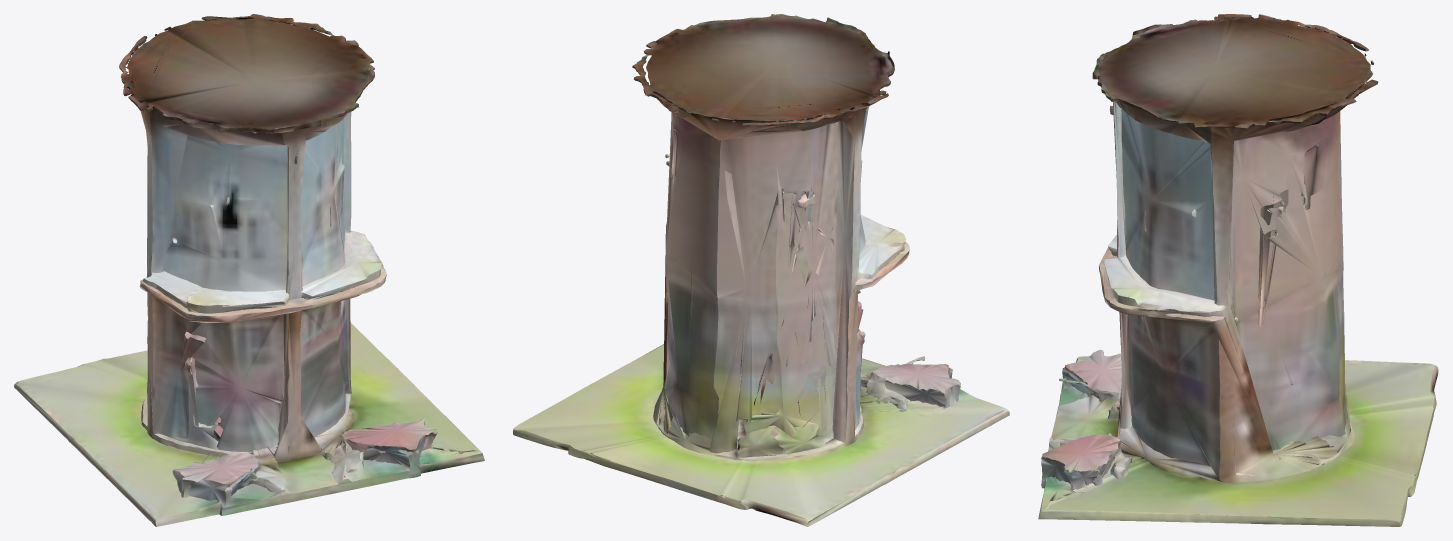
3 renders of one model, left to right at view 1: azimuth 30°, elevation 25°; view 2: azimuth 150°, elevation 25°; view 3: azimuth 270°, elevation 25°, orthographic. The views are drawn at different scales.
Parts seen in each view (by area): view 1: world; view 2: world; view 3: world.
Boxes of the visible parts, <box> form: world: <box>14,14,484,526</box>; world: <box>513,14,1009,526</box>; world: <box>1038,14,1438,526</box>.
Size of the model in its own units: 0.3687 by 0.3737 by 0.3557.
1 material, 1 textured.
